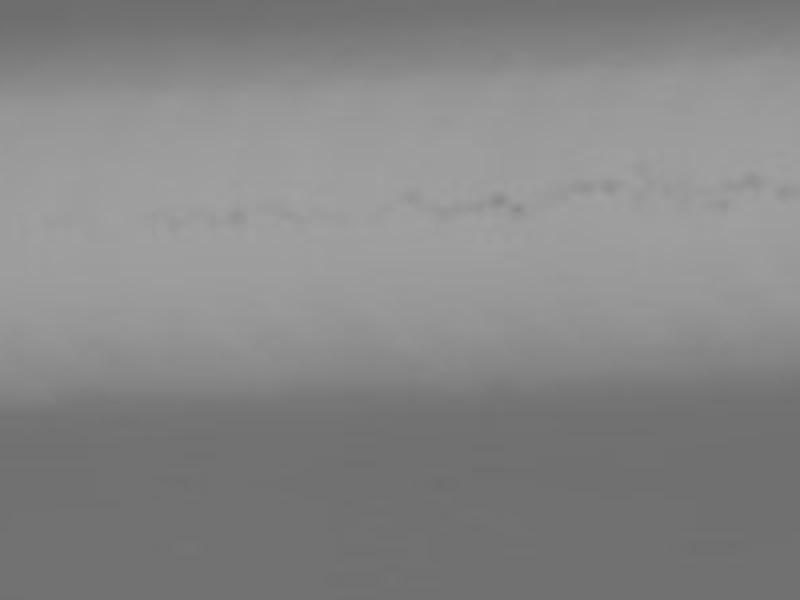defect: (223, 209, 254, 234), (736, 169, 761, 193), (568, 175, 595, 197), (601, 173, 623, 199), (434, 201, 460, 223), (484, 185, 506, 210), (776, 178, 800, 200), (661, 178, 685, 200), (718, 173, 739, 196), (632, 187, 652, 209), (406, 185, 425, 206), (504, 202, 523, 221), (631, 157, 653, 173), (711, 196, 734, 210)
